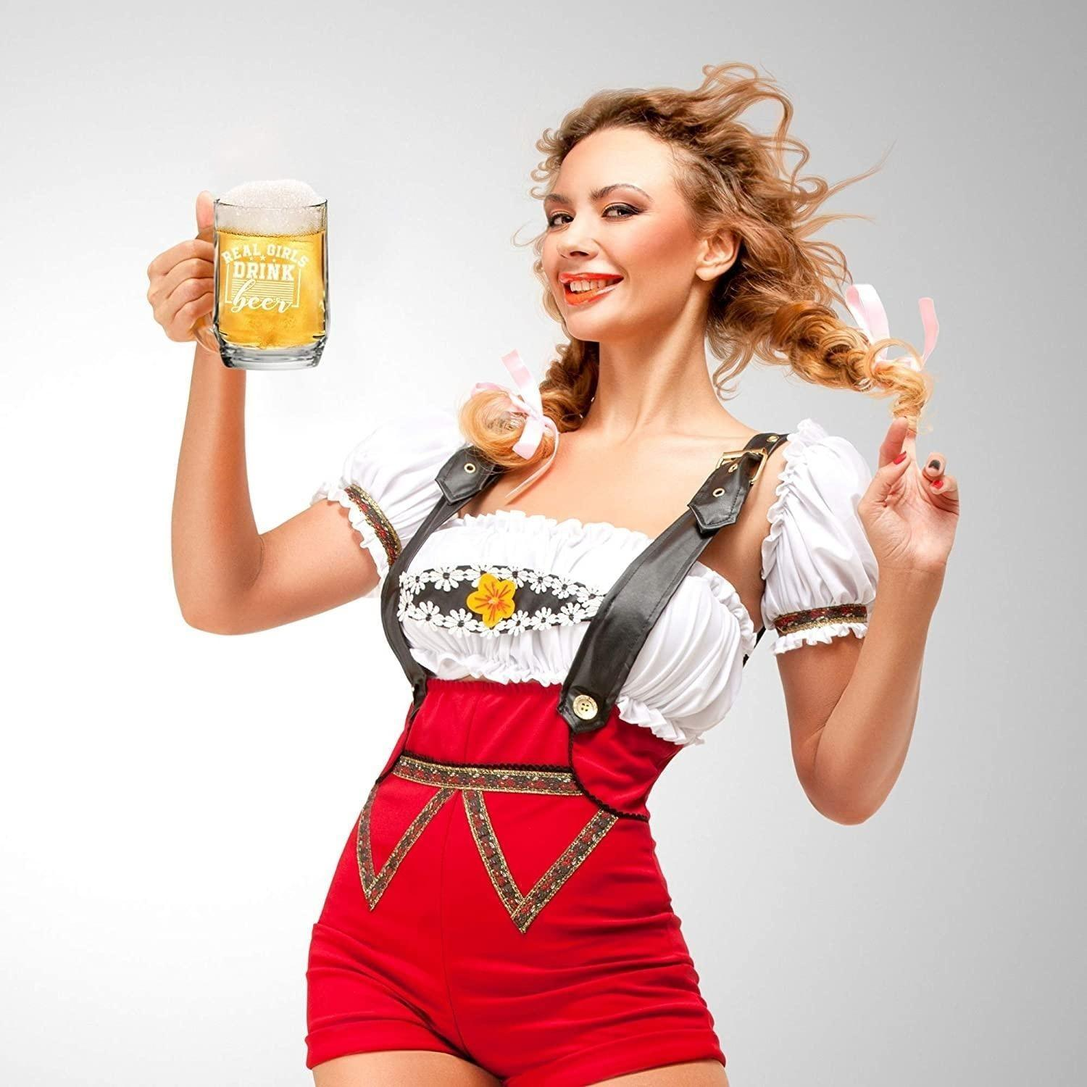glass-mug: (184, 176, 335, 375)
